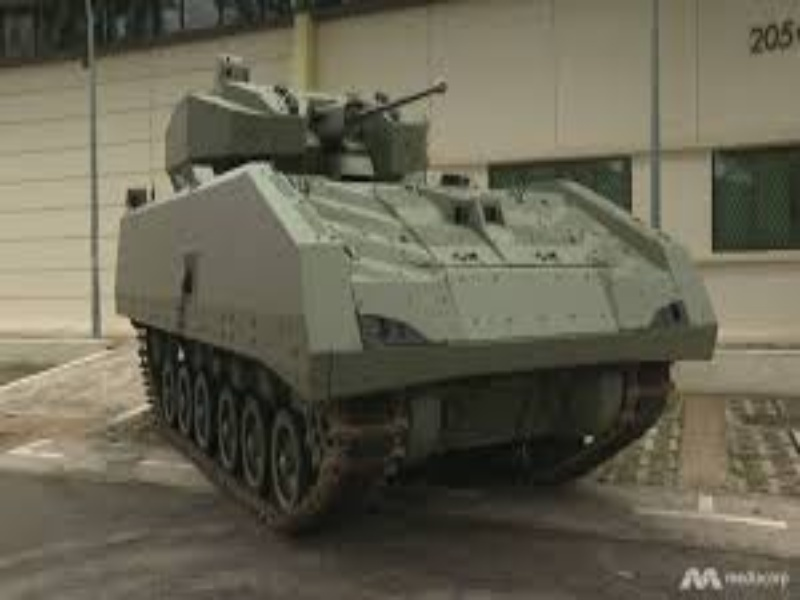tank: (113, 52, 719, 533)
